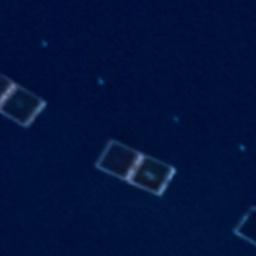square_solid: (92, 137, 144, 187), (126, 151, 177, 200), (1, 81, 48, 133), (229, 201, 256, 248)
